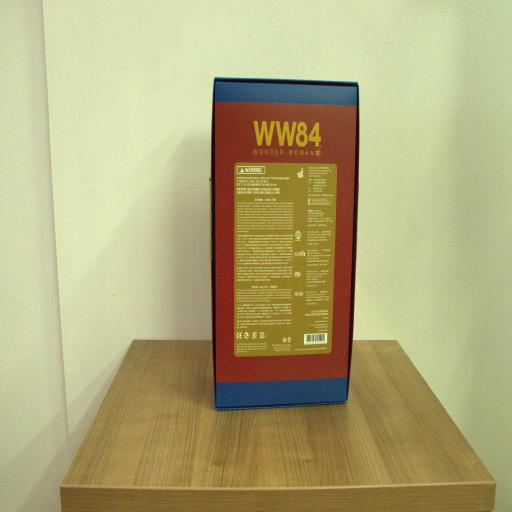WonderWoman: (210, 75, 360, 413)
